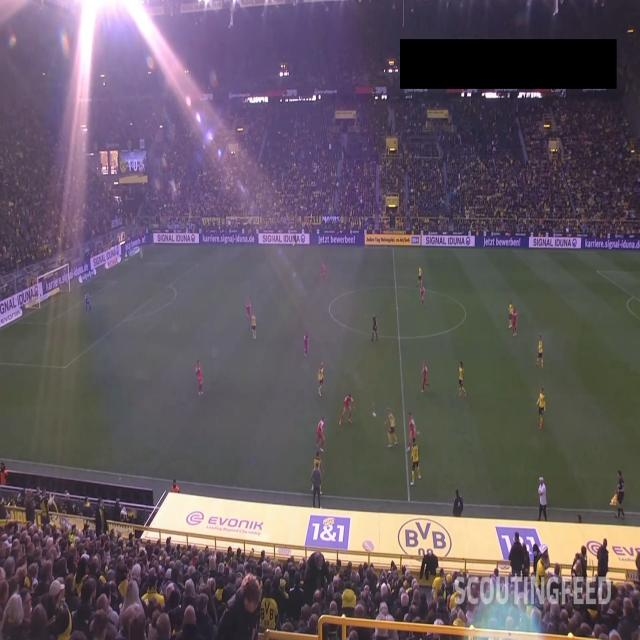ball: (372, 411, 378, 419)
f_player: (383, 406, 399, 449), (409, 437, 422, 487), (406, 412, 421, 452), (338, 393, 355, 427), (536, 387, 546, 431), (315, 415, 326, 454), (421, 358, 432, 394), (457, 360, 467, 399), (195, 358, 204, 398), (312, 449, 325, 473), (316, 360, 324, 399), (536, 334, 544, 371), (250, 311, 258, 341), (507, 299, 514, 329), (303, 329, 310, 359), (245, 298, 252, 326), (512, 307, 518, 337), (85, 291, 92, 314), (420, 282, 426, 308), (320, 261, 326, 282), (418, 265, 422, 287)
umpire: (370, 312, 379, 343)
